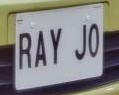0: (87, 20, 101, 65)
A: (31, 27, 46, 68)
J: (72, 20, 88, 67)
R: (18, 30, 34, 73)
Y: (47, 25, 63, 69)
